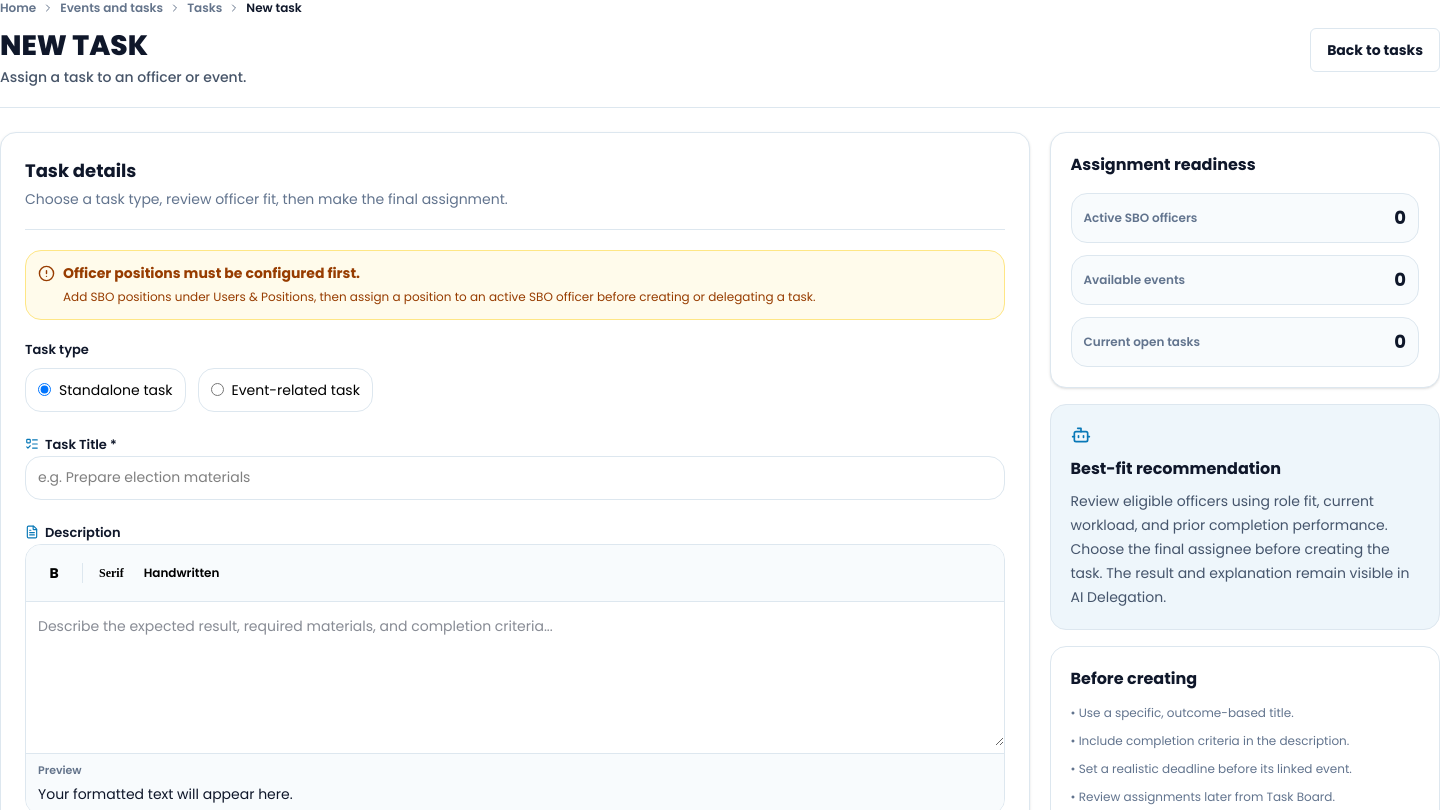
Test: TasksPage › views and query parameters › opens the form for ?new=1 and returns to the board with Back to tasks
Check: the field labelled "Task Title *" is shown, box [25,456,1004,500]
Click the button "Back to tasks" at x=1375, y=50, box [1310,28,1439,72]
(page scrolled)
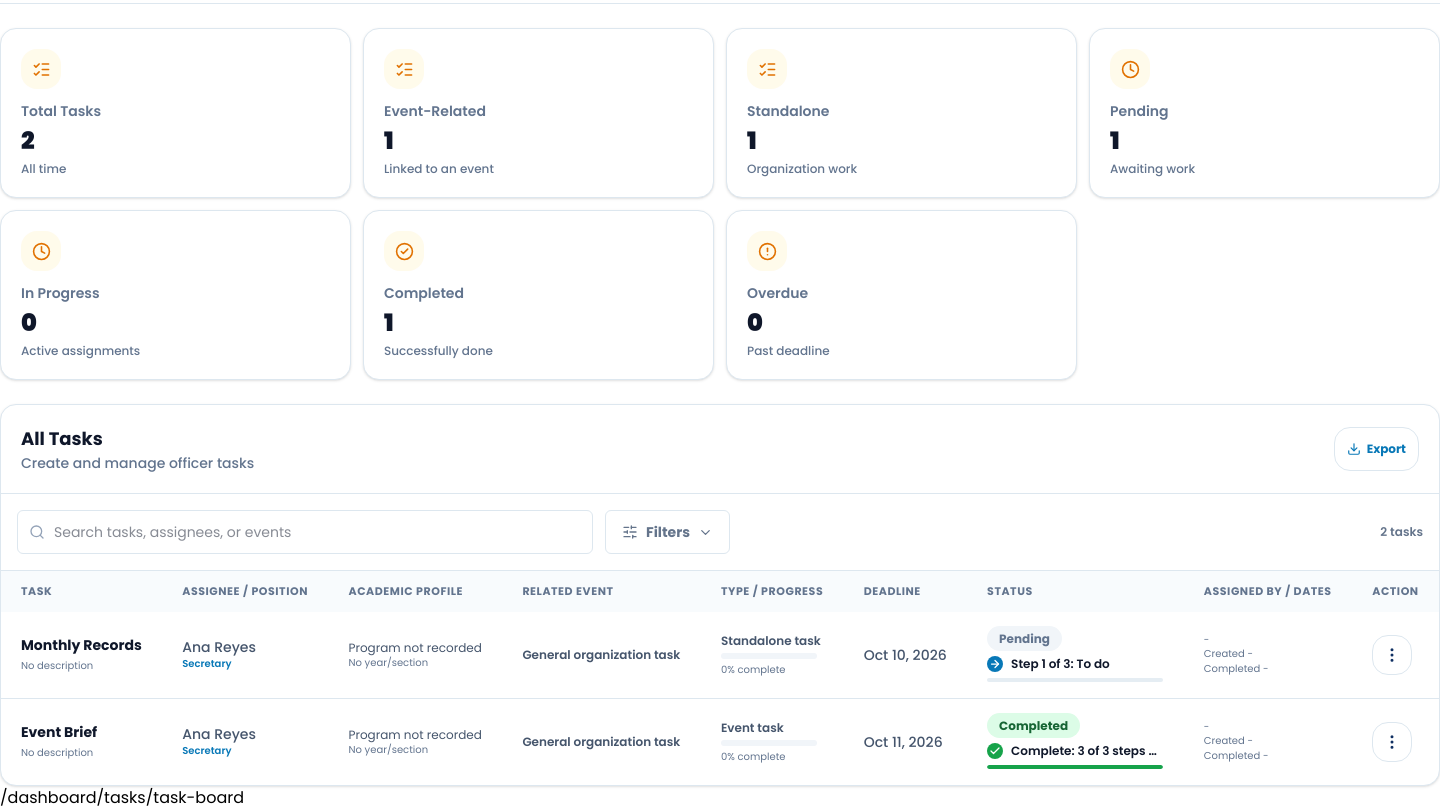
Check: the text with test id "where" reads "/dashboard/tasks/task-board", box [0,786,244,808]
Check: the label labelled "Task Title *" is gone
